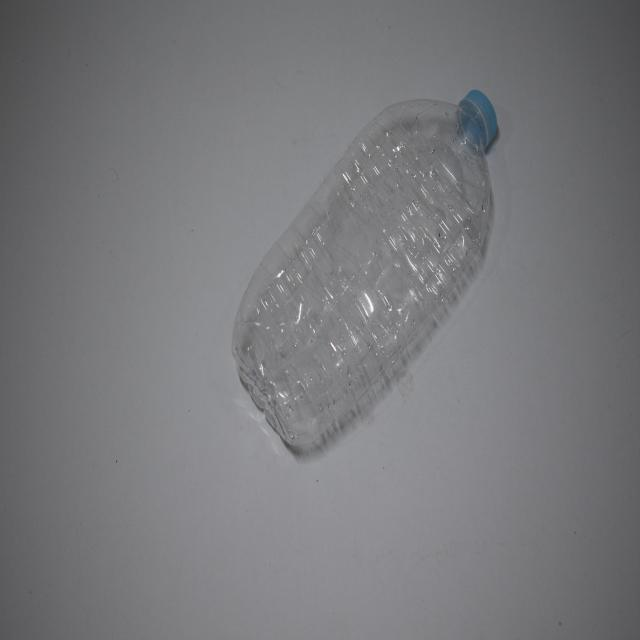empty: (232, 91, 496, 447)
